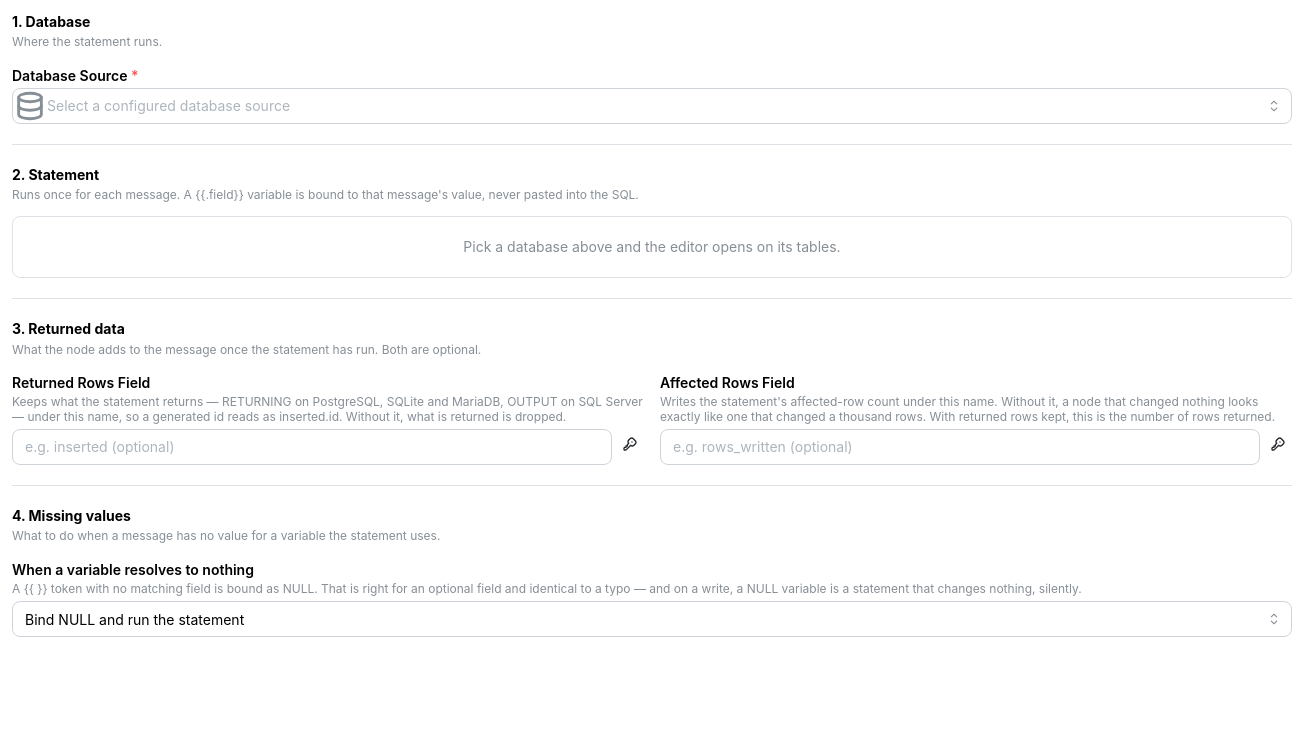
it: execute_sql against a CDC target › still lets you choose a CDC source
Click the dropdown labelled "Database Source *" at (652, 106), box [12, 88, 1292, 124]
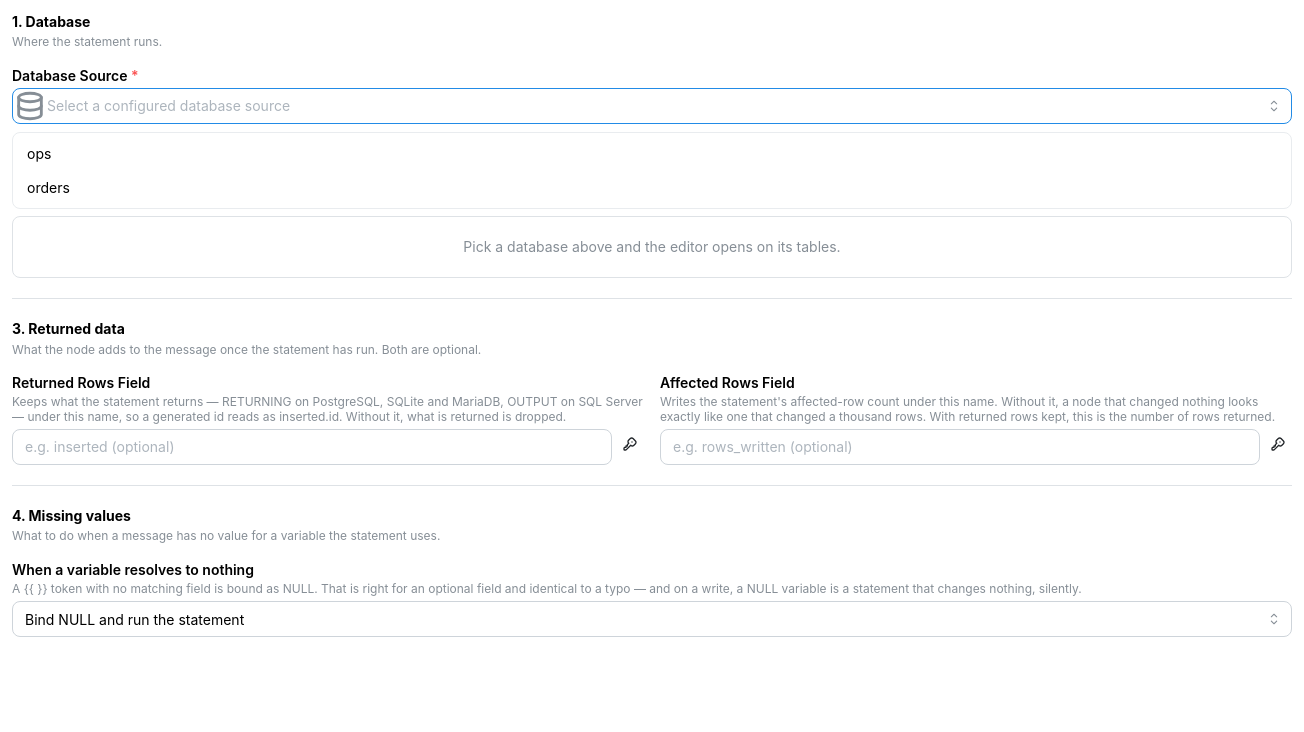
Expected: the option "orders" is shown, [27, 179, 70, 196]
